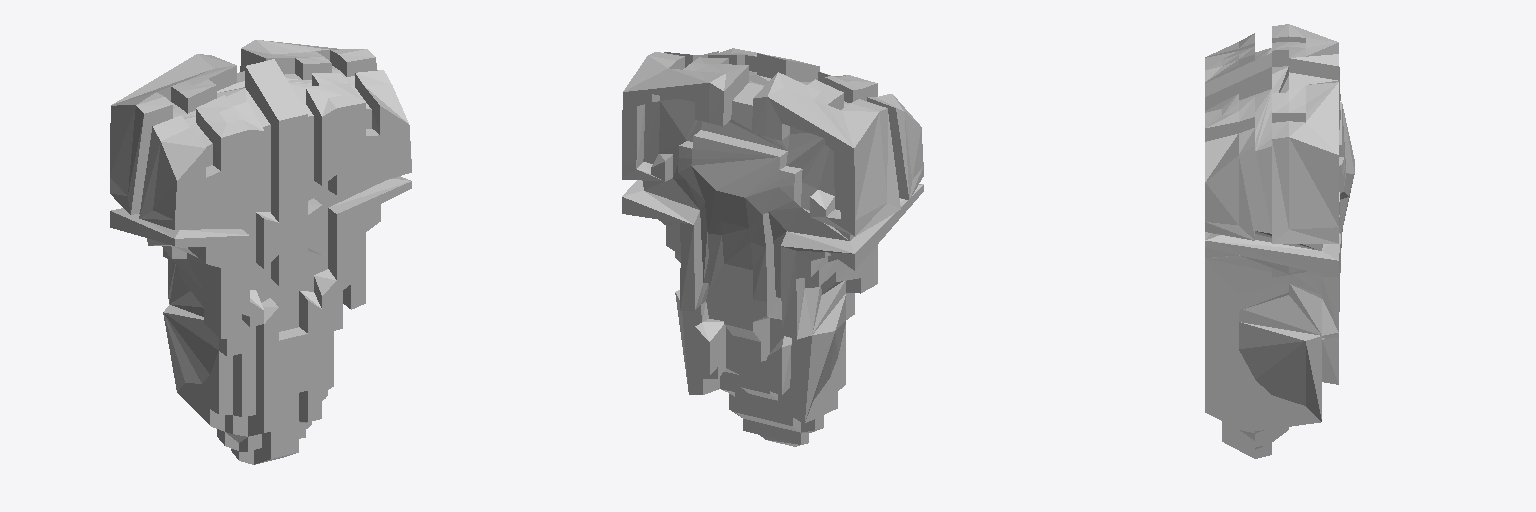
Rendered from HomingPlasmaBot_LOD0-2.obj.
3 renders of one model, left to right at view 1: azimuth 30°, elevation 25°; view 2: azimuth 150°, elevation 25°; view 3: azimuth 270°, elevation 25°, orthographic.
Visible parts, largest first — view 1: HomingPlasmaBot_LOD0-2; view 2: HomingPlasmaBot_LOD0-2; view 3: HomingPlasmaBot_LOD0-2.
Part boxes in pixels (bbox=[...]): HomingPlasmaBot_LOD0-2: bbox=[110, 40, 411, 464]; HomingPlasmaBot_LOD0-2: bbox=[622, 48, 923, 446]; HomingPlasmaBot_LOD0-2: bbox=[1205, 24, 1354, 458].
Bounding box in the file's own units: 1.79 × 2.59 × 0.8938.